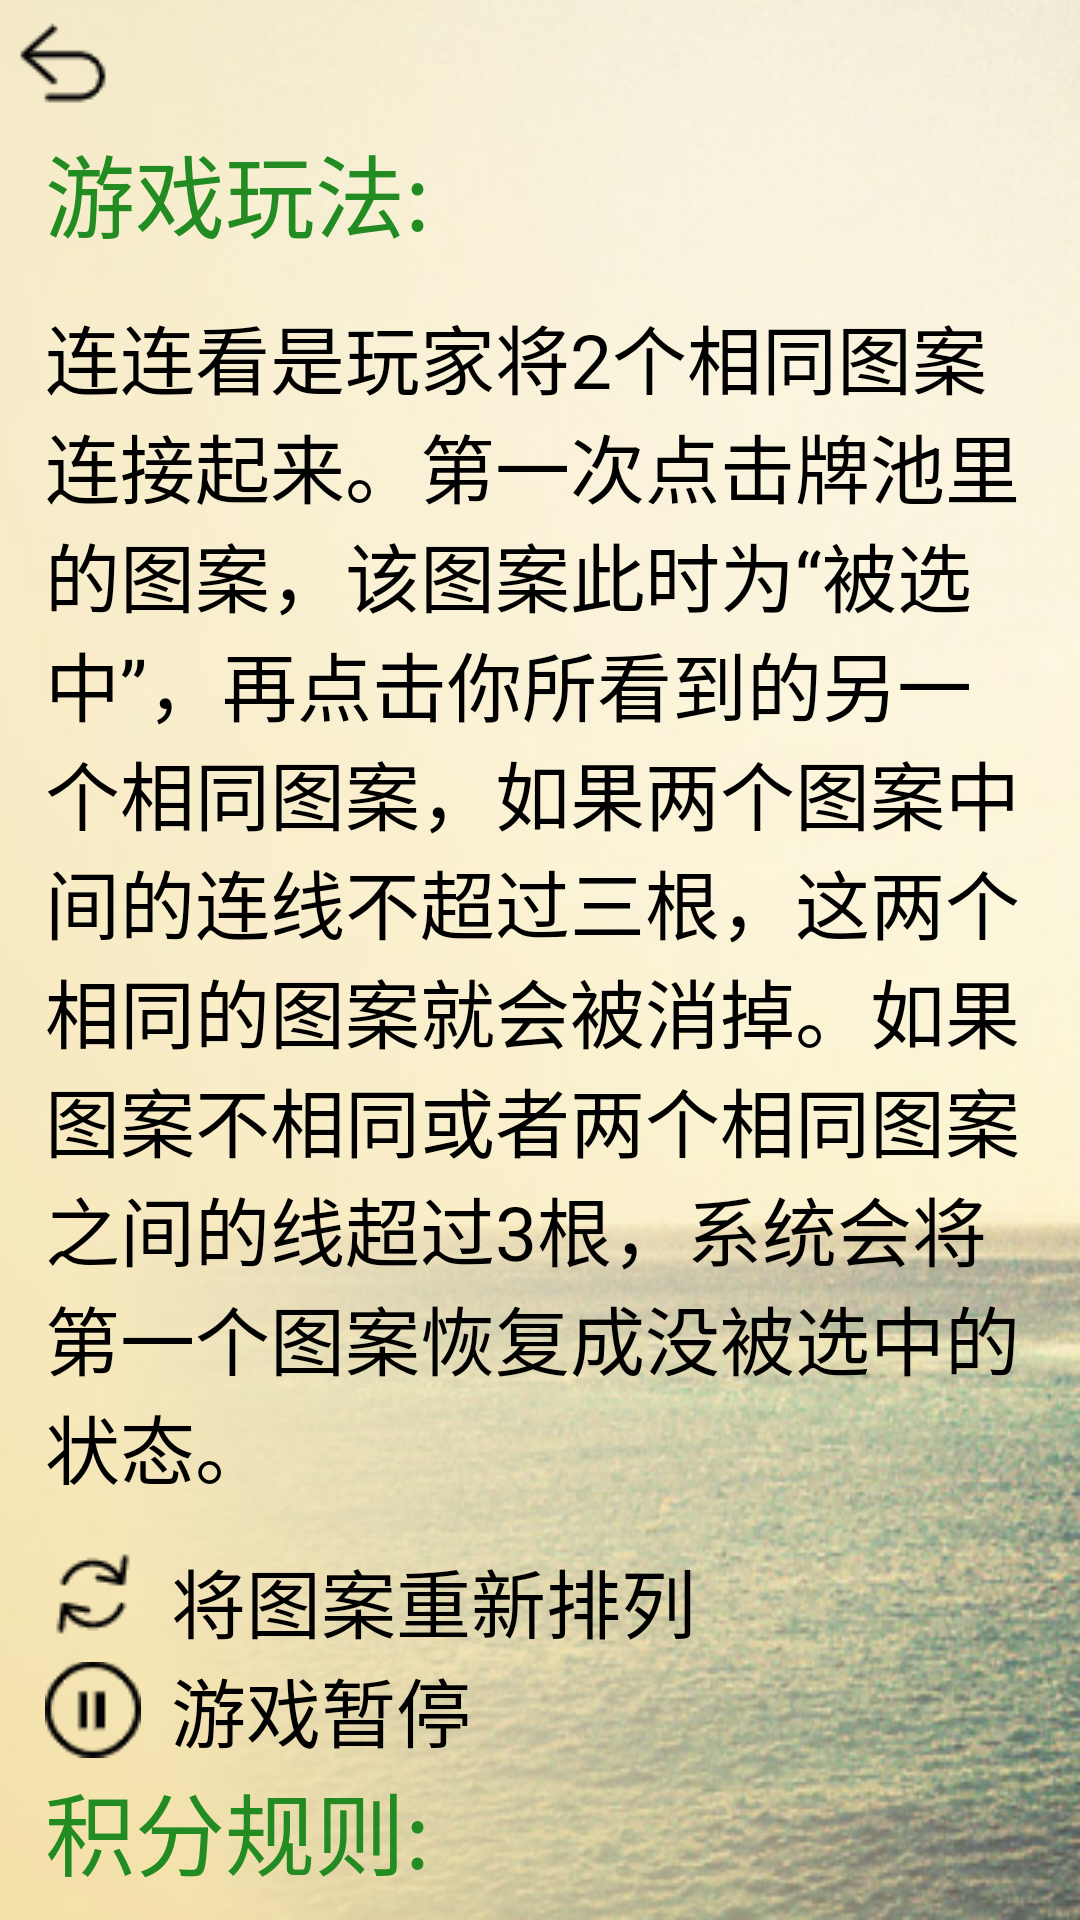

Where to tap for icons on this 1080px×1920px app screen, as [x,y]:
back: [63,63]
reset: [93,1594]
